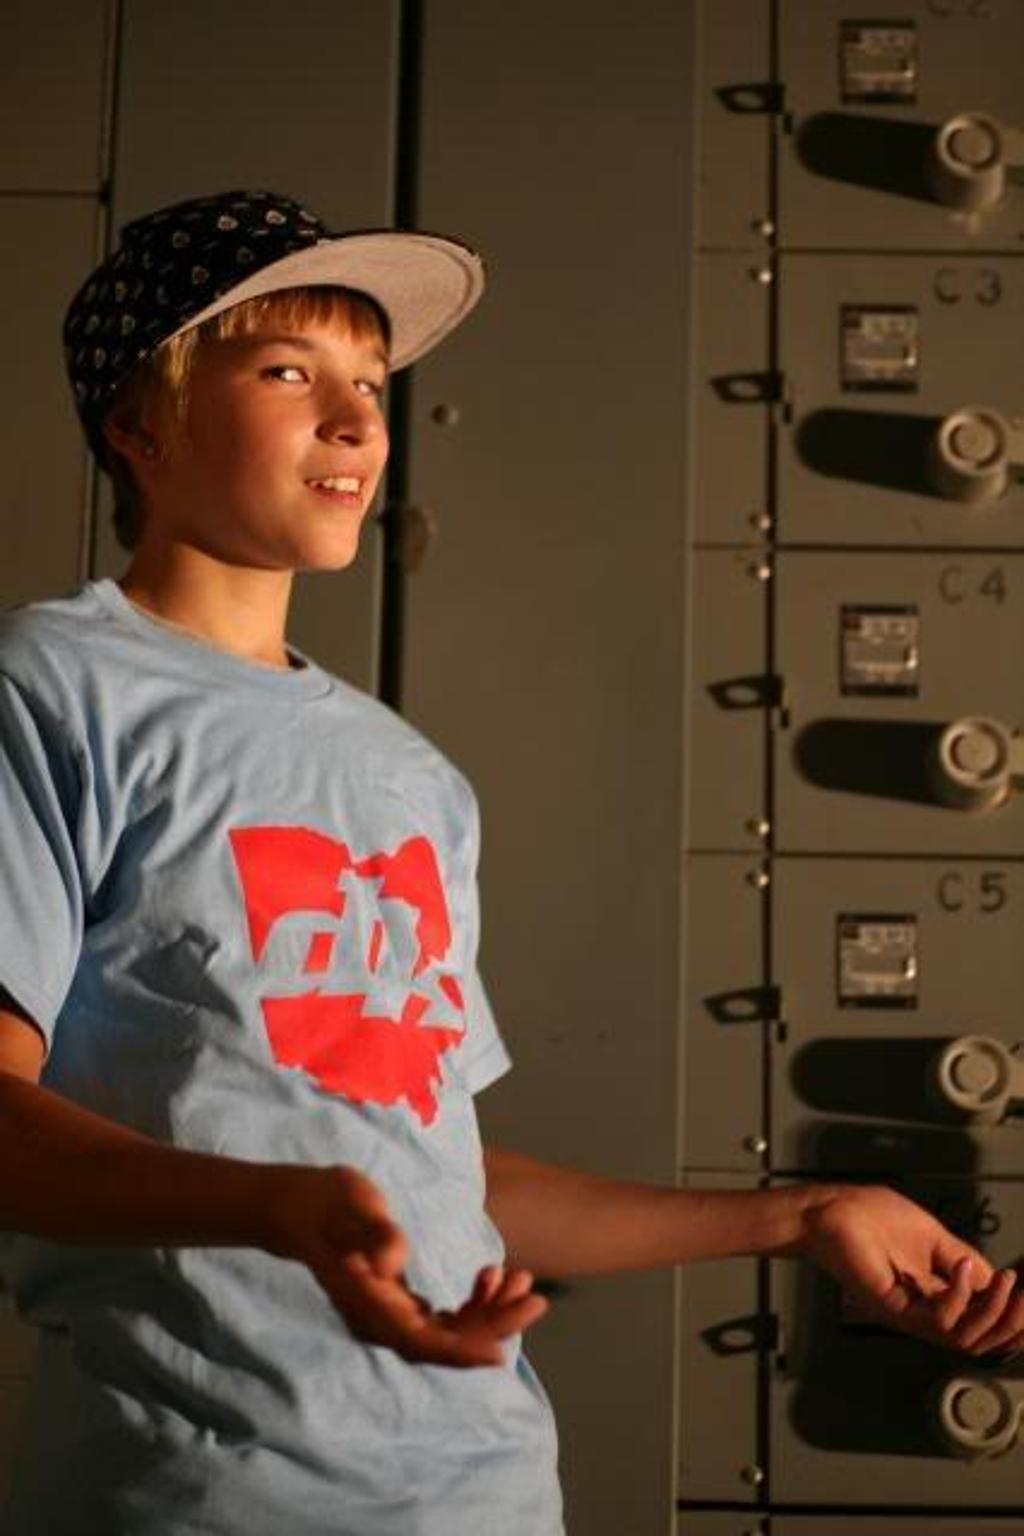face: (168, 312, 393, 564)
